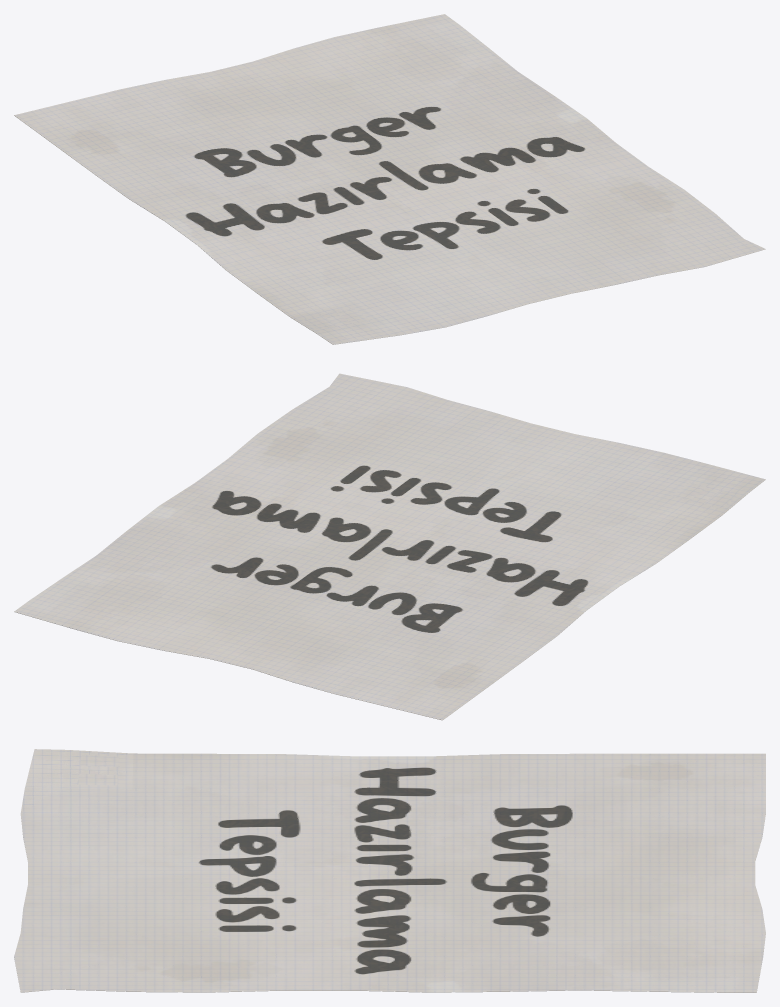
Rendered from paper.fbx.
3 views of the same model, one above another, from view 1: azimuth 30°, elevation 25°; view 2: azimuth 150°, elevation 25°; view 3: azimuth 270°, elevation 25° (orthographic). The views are drawn at different scales.
Visible parts, largest first — view 1: HD2L_MOD_Paper; view 2: HD2L_MOD_Paper; view 3: HD2L_MOD_Paper.
Boxes of the visible parts, <box> form: HD2L_MOD_Paper: <box>14,14,765,344</box>; HD2L_MOD_Paper: <box>14,373,765,720</box>; HD2L_MOD_Paper: <box>14,749,765,992</box>.
Size of the model in its own units: 21 by 0.2047 by 27.95.
1 material, 1 textured.
